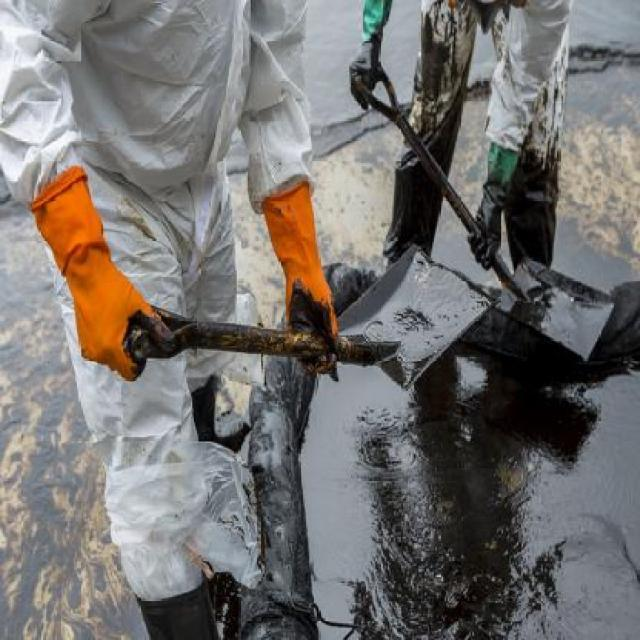spillage: (300, 218, 640, 640)
